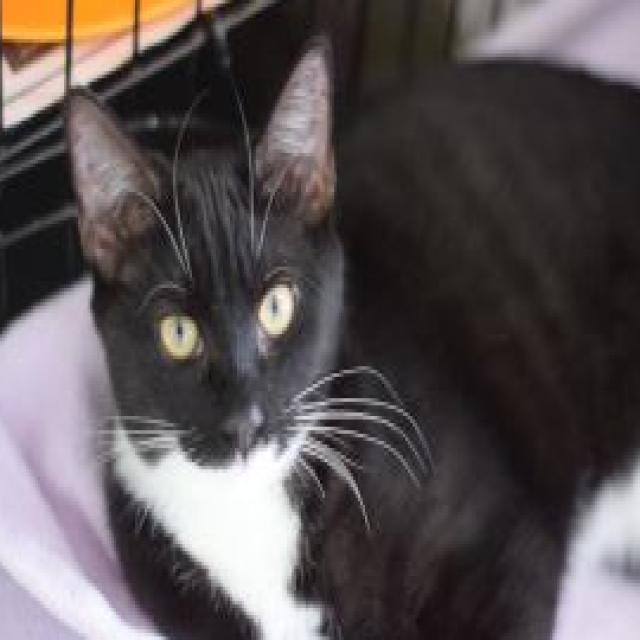Tuxedo: (61, 25, 640, 640)
